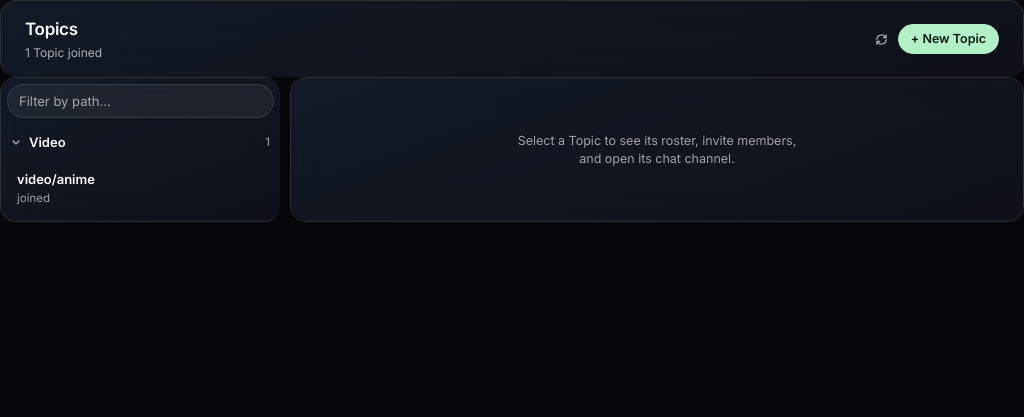
Test case: QURATOR-146 — roster row hands off to chat › a pasteKey REJECTION renders no bio line and a later hover retries (GLM review: a reject is not "asked and there is none")
Click the button with class "topic-row". click: {"x": 56, "y": 179}
box: [7,161,274,215]
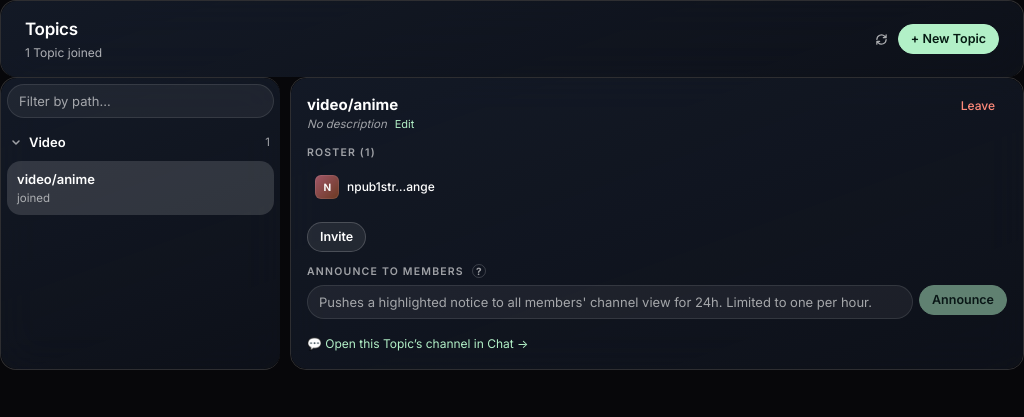
Expected: the element with class "self" is shown
Hover over the element with class "self" at {"x": 375, "y": 187}, box [315,175,435,199]
Expected: the element with class "self" is shown
Move the pointer off the element with class "self", box [315,175,435,199]
Expected: the element with class "self" is shown
Hover over the element with class "self" at {"x": 375, "y": 187}, box [315,175,435,199]
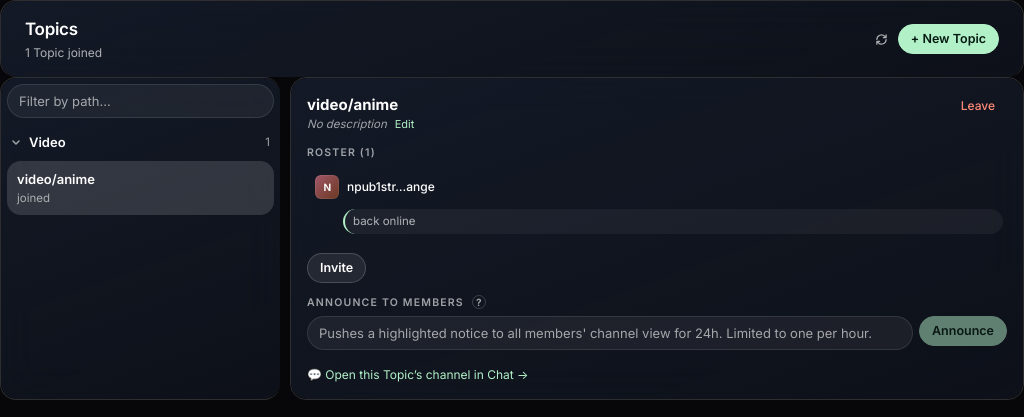
Expected: the tooltip "back online" is shown, [343,209,1003,234]
